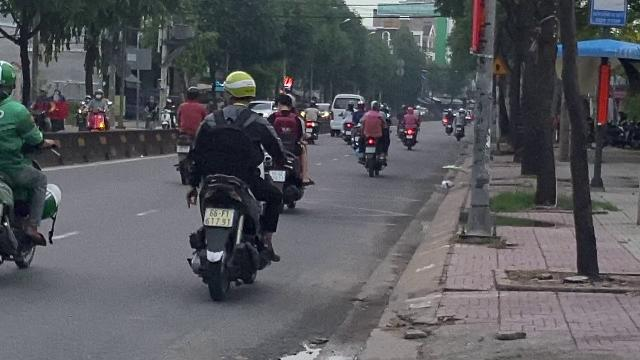helmet: (222, 70, 258, 104)
licenseplate: (204, 208, 232, 226)
motorcyclist: (177, 68, 285, 300), (268, 88, 314, 212)
nohelmet: (273, 93, 291, 110)
